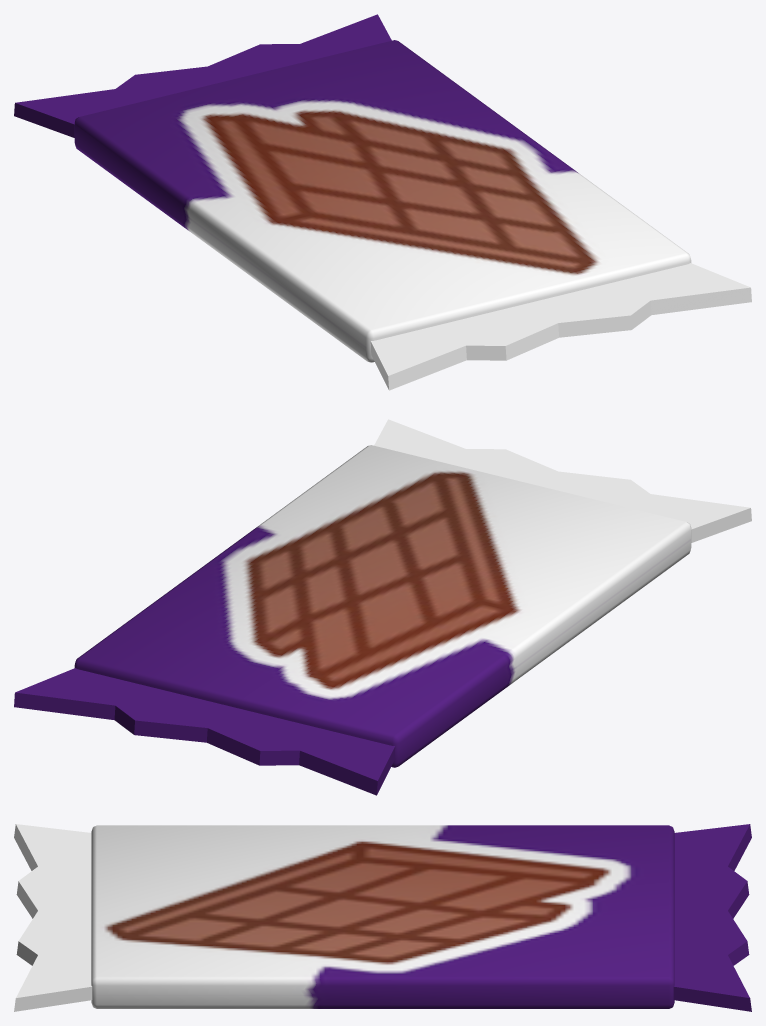
Rendered from Chocolate.glb.
The picture shows the model from 3 angles, top to bottom: view 1: azimuth 30°, elevation 25°; view 2: azimuth 150°, elevation 25°; view 3: azimuth 270°, elevation 25°; orthographic projection.
Parts seen in each view (by area): view 1: Chocolate; view 2: Chocolate; view 3: Chocolate.
Part boxes in pixels (x1=…): Chocolate: x1=14, y1=14, x2=751, y2=390; Chocolate: x1=14, y1=419, x2=751, y2=795; Chocolate: x1=14, y1=824, x2=751, y2=1011.
Bounding box in the file's own units: 0.7862 × 0.0687 × 1.41.
1 material, 1 textured.
